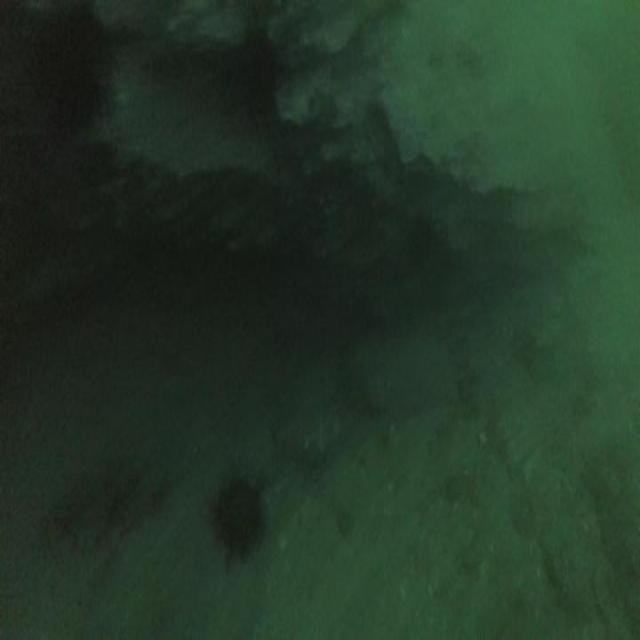echinus: (205, 464, 268, 570)
